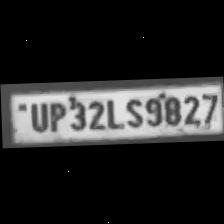2: (84, 96, 104, 131), (180, 92, 200, 127)
3: (64, 98, 86, 132)
7: (200, 90, 218, 125)
8: (161, 93, 181, 127)
9: (142, 94, 162, 128)
L: (102, 96, 122, 130)
P: (44, 98, 64, 132)
S: (120, 94, 142, 129)
U: (25, 99, 47, 132)
